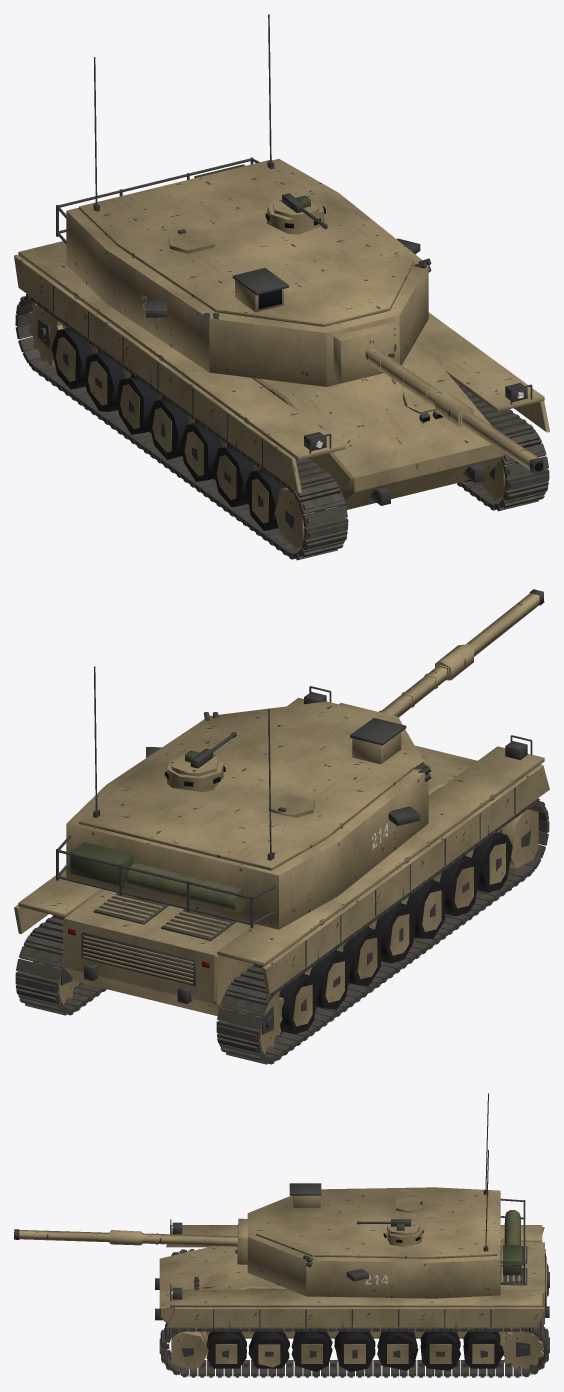
Rendered from battle-tank_card.glb.
3 renders of one model, top to bottom at view 1: azimuth 30°, elevation 25°; view 2: azimuth 150°, elevation 25°; view 3: azimuth 270°, elevation 25°, orthographic. The views are drawn at different scales.
Parts seen in each view (by area): view 1: Hull, Turret, Gun; view 2: Hull, Turret, Gun; view 3: Hull, Turret, Gun.
Boxes of the visible parts, box(x1,y1,x2,y2) form: Hull: box(14, 241, 549, 560); Turret: box(56, 14, 431, 386); Gun: box(333, 322, 544, 473); Hull: box(14, 686, 549, 1064); Turret: box(56, 666, 430, 929); Gun: box(339, 589, 544, 718); Hull: box(155, 1219, 549, 1377); Turret: box(247, 1093, 525, 1298); Gun: box(14, 1218, 247, 1264).
Bounding box in the file's own units: 4.09 × 4.65 × 10.43.
10 materials, 7 textured.
